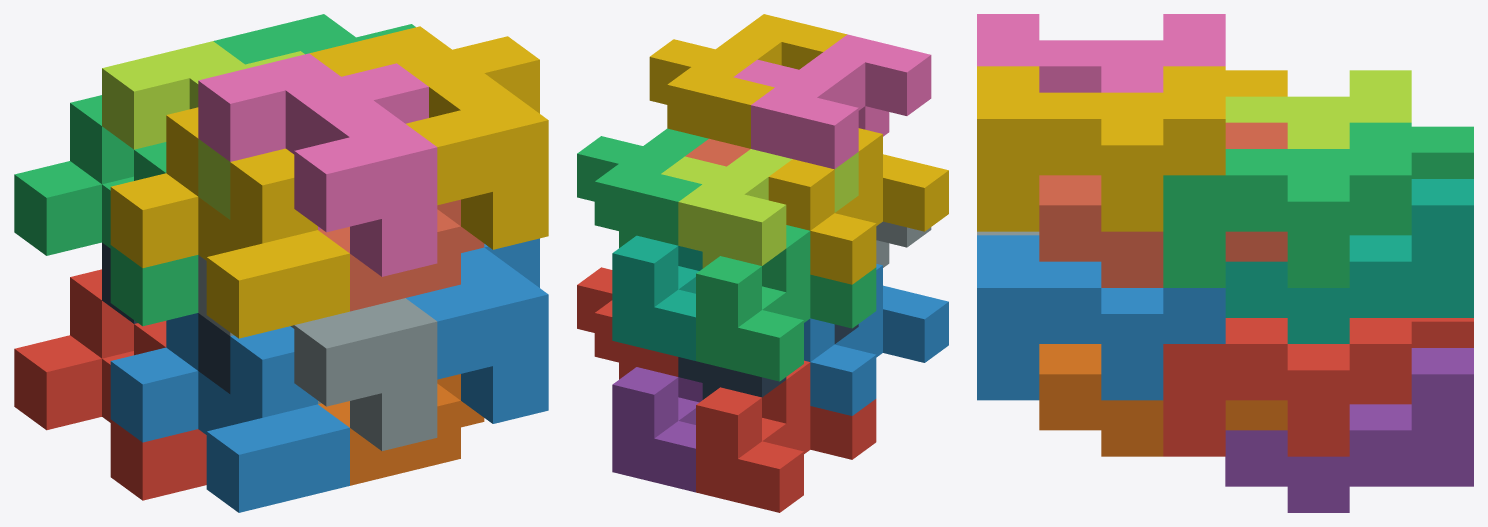
The model's file is tiling.obj.
3 views of the same model, side by side, from view 1: azimuth 30°, elevation 25°; view 2: azimuth 150°, elevation 25°; view 3: azimuth 270°, elevation 25° (orthographic). The views are drawn at different scales.
Parts seen in each view (by area): view 1: copy_2_domain_4, copy_1_domain_4, copy_1_domain_2, copy_2_domain_8, copy_1_domain_1, copy_1_domain_3, copy_2_domain_6, copy_2_domain_2, copy_2_domain_3, copy_1_domain_8, copy_1_domain_6, copy_2_domain_7 (+1 smaller); view 2: copy_2_domain_4, copy_1_domain_3, copy_1_domain_1, copy_1_domain_4, copy_2_domain_8, copy_2_domain_3, copy_1_domain_2, copy_2_domain_7, copy_1_domain_5, copy_1_domain_7, copy_2_domain_5, copy_2_domain_1 (+2 smaller); view 3: copy_2_domain_8, copy_2_domain_7, copy_2_domain_6, copy_2_domain_5, copy_1_domain_5, copy_1_domain_7, copy_2_domain_4, copy_1_domain_8, copy_1_domain_6, copy_2_domain_3, copy_1_domain_3, copy_1_domain_1 (+1 smaller).
Boxes of the visible parts, box(x1,y1,x2,y2) form: copy_2_domain_4: box(198, 53, 437, 276); copy_1_domain_4: box(110, 107, 349, 338); copy_1_domain_2: box(110, 313, 349, 512); copy_2_domain_8: box(309, 26, 548, 249); copy_1_domain_1: box(14, 269, 206, 500); copy_1_domain_3: box(14, 95, 198, 326); copy_2_domain_6: box(406, 238, 548, 423); copy_2_domain_2: box(198, 255, 437, 450); copy_2_domain_3: box(102, 41, 304, 219); copy_1_domain_8: box(318, 199, 484, 311); copy_1_domain_6: box(318, 374, 484, 485); copy_2_domain_7: box(213, 14, 415, 64); copy_2_domain_4: box(733, 34, 931, 169); copy_1_domain_3: box(696, 225, 876, 381); copy_1_domain_1: box(696, 360, 876, 512); copy_1_domain_4: box(768, 128, 948, 284); copy_2_domain_8: box(649, 14, 846, 148); copy_2_domain_3: box(661, 149, 858, 268); copy_1_domain_2: box(804, 264, 948, 415); copy_2_domain_7: box(577, 128, 708, 247); copy_1_domain_5: box(612, 367, 702, 492); copy_1_domain_7: box(612, 235, 702, 360); copy_2_domain_5: box(577, 267, 678, 379); copy_2_domain_1: box(678, 324, 858, 399); copy_2_domain_8: box(977, 66, 1225, 231); copy_2_domain_7: box(1163, 122, 1411, 287); copy_2_domain_6: box(977, 235, 1225, 400); copy_2_domain_5: box(1163, 318, 1411, 456); copy_1_domain_5: box(1225, 348, 1473, 512); copy_1_domain_7: box(1225, 179, 1473, 343); copy_2_domain_4: box(977, 14, 1225, 92); copy_1_domain_8: box(1039, 122, 1287, 287); copy_1_domain_6: box(1039, 344, 1287, 456); copy_2_domain_3: box(1225, 70, 1411, 148); copy_1_domain_3: box(1349, 126, 1473, 235); copy_1_domain_1: box(1349, 318, 1473, 404).
Bounding box in the file's own units: 6 × 7 × 8.
